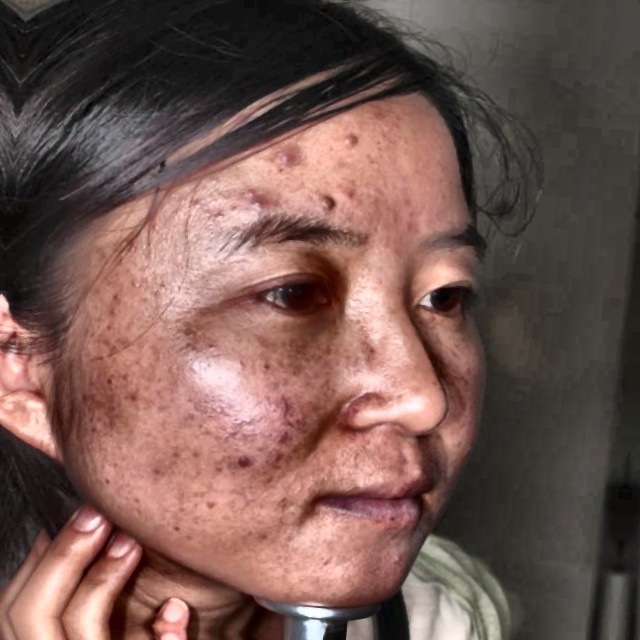comedone: (265, 146, 308, 170), (227, 445, 257, 479), (234, 192, 266, 216)
